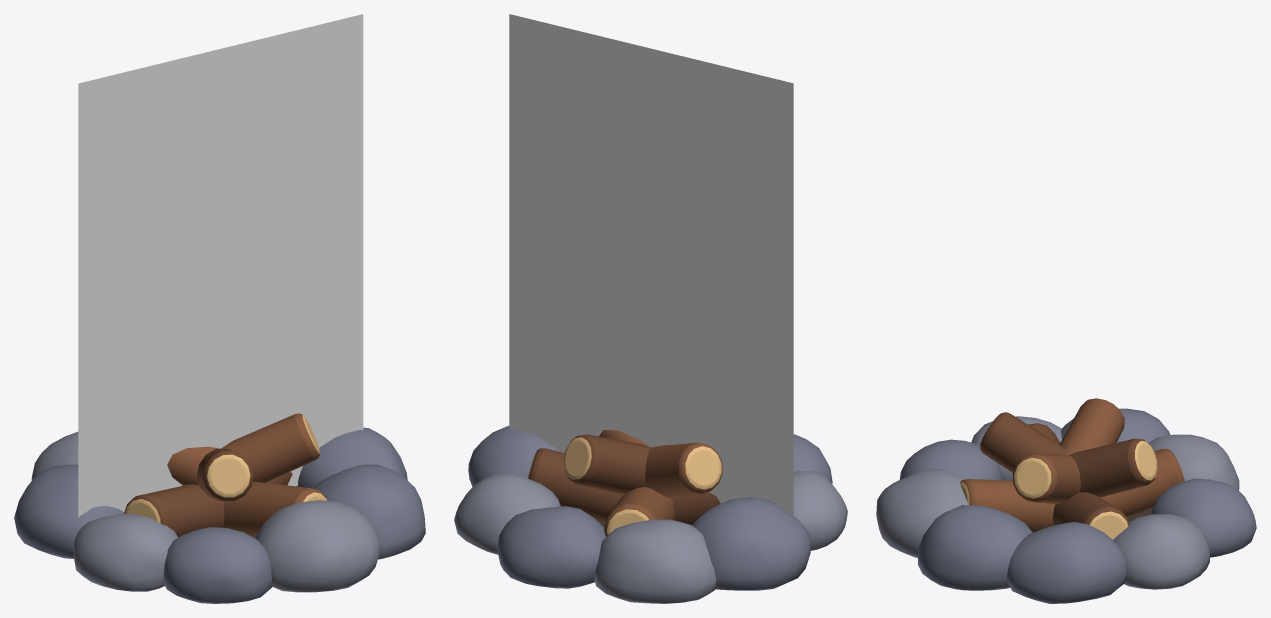
File: Campfire.glb
3 renders of one model, left to right at view 1: azimuth 30°, elevation 25°; view 2: azimuth 150°, elevation 25°; view 3: azimuth 270°, elevation 25°, orthographic. The views are drawn at different scales.
Parts seen in each view (by area): view 1: Flame, Stone_7, Stone_6, Stone_5, Stone_8, Stone_4, Log_7, Stone_0, Log_2, Log_3, Log_6, Stone_3 (+1 smaller); view 2: Flame, Stone_3, Stone_4, Stone_2, Stone_1, Log_4, Log_5, Stone_5, Stone_0, Log_0, Log_1, Stone_6 (+1 smaller); view 3: Stone_0, Stone_8, Stone_1, Stone_7, Stone_2, Log_4, Log_7, Stone_6, Log_6, Stone_3, Log_3, Log_5 (+4 smaller).
Part boxes in pixels (x1,y1,x2,y2): Flame: (78, 14, 363, 516); Stone_7: (255, 500, 380, 592); Stone_6: (163, 527, 272, 603); Stone_5: (73, 513, 177, 591); Stone_8: (313, 464, 425, 559); Stone_4: (14, 464, 123, 558); Log_7: (221, 413, 320, 482); Stone_0: (296, 427, 407, 488); Log_2: (124, 484, 224, 537); Log_3: (223, 481, 327, 537); Log_6: (197, 448, 253, 501); Stone_3: (31, 431, 78, 480); Flame: (509, 14, 793, 515); Stone_3: (594, 519, 716, 603); Stone_4: (692, 497, 810, 590); Stone_2: (497, 506, 605, 588); Stone_1: (454, 473, 560, 554); Log_4: (563, 434, 651, 494); Log_5: (645, 442, 722, 497); Stone_5: (793, 471, 847, 550); Stone_0: (468, 425, 558, 486); Log_0: (527, 448, 623, 521); Log_1: (604, 487, 674, 536); Stone_6: (793, 434, 832, 483); Stone_0: (1006, 521, 1126, 603); Stone_8: (917, 505, 1032, 590); Stone_1: (1113, 514, 1209, 589); Stone_7: (876, 469, 968, 557); Stone_2: (1151, 478, 1256, 557); Log_4: (1069, 438, 1157, 497); Log_7: (1012, 454, 1080, 504); Stone_6: (899, 439, 1001, 480); Log_6: (980, 412, 1068, 472); Stone_3: (1148, 434, 1239, 490); Log_3: (960, 479, 1055, 532); Log_5: (1060, 398, 1124, 455).
Size of the model in its own units: 1.17 by 1.54 by 1.17.
